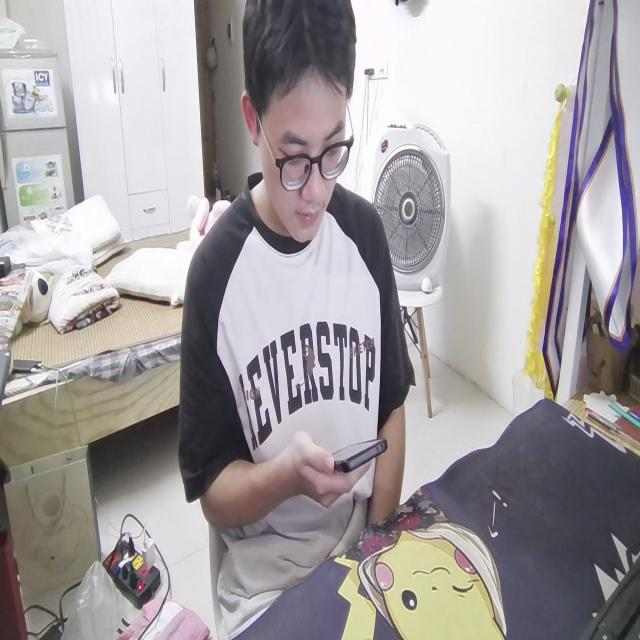phone: (332, 436, 393, 473)
student: (178, 0, 412, 623)
